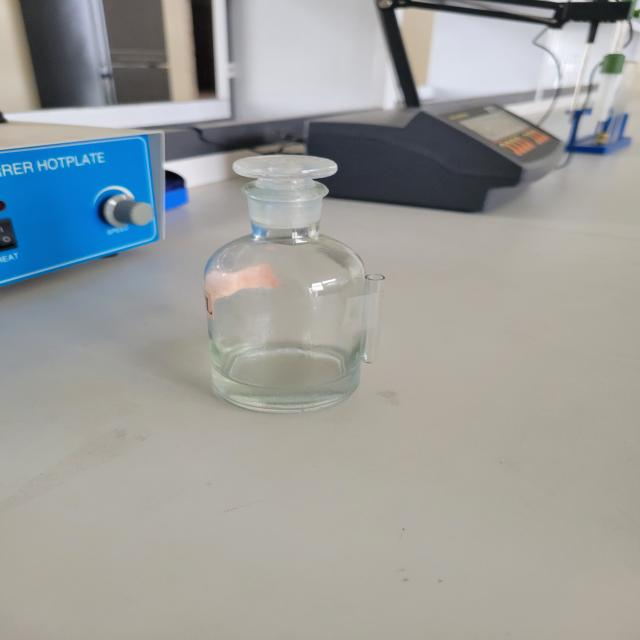Reagent_Bottle: (148, 118, 430, 462)
